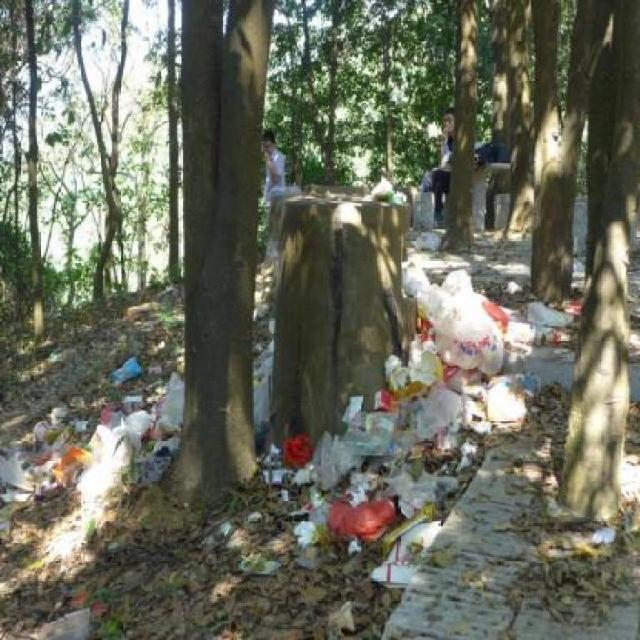garbage: (405, 266, 531, 418), (288, 417, 439, 541), (2, 415, 188, 503), (534, 288, 586, 335), (251, 316, 272, 426), (139, 380, 188, 414), (125, 301, 176, 326), (369, 179, 400, 203), (111, 357, 138, 384), (411, 231, 439, 252)
